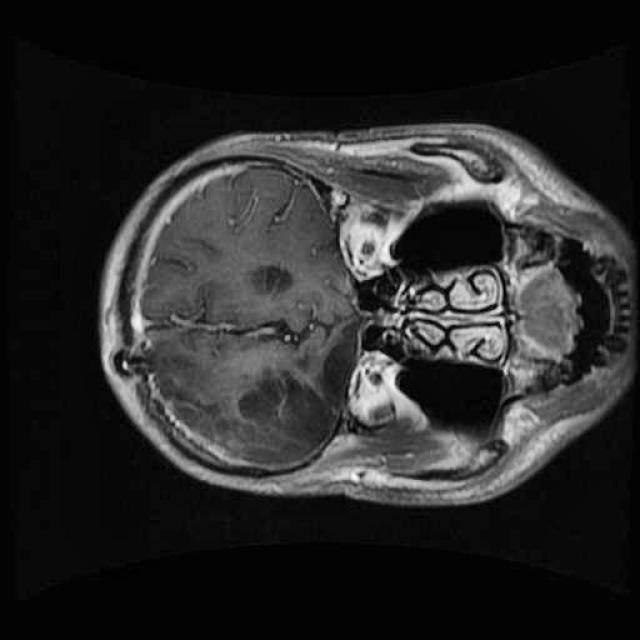Non-Tumor: (238, 309, 364, 455)
